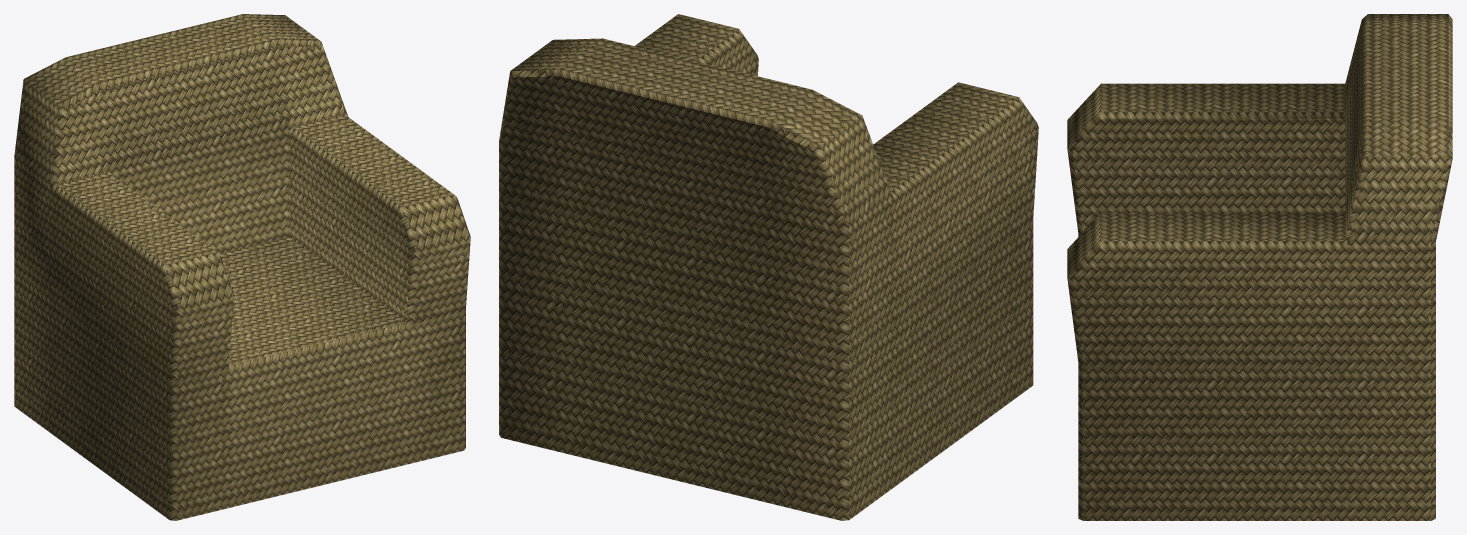
The model's file is UDC_RattanChair.obj.
The picture shows the model from 3 angles, left to right: view 1: azimuth 30°, elevation 25°; view 2: azimuth 150°, elevation 25°; view 3: azimuth 270°, elevation 25°; orthographic projection. The views are drawn at different scales.
Visible parts, largest first — view 1: UDC_RattanChair; view 2: UDC_RattanChair; view 3: UDC_RattanChair.
Part boxes in pixels (x1,y1,x2,y2): UDC_RattanChair: (14, 14, 470, 520); UDC_RattanChair: (499, 14, 1038, 520); UDC_RattanChair: (1067, 14, 1452, 520).
Bounding box in the file's own units: 0.2945 × 0.3124 × 0.2969.
1 material, 1 textured.
